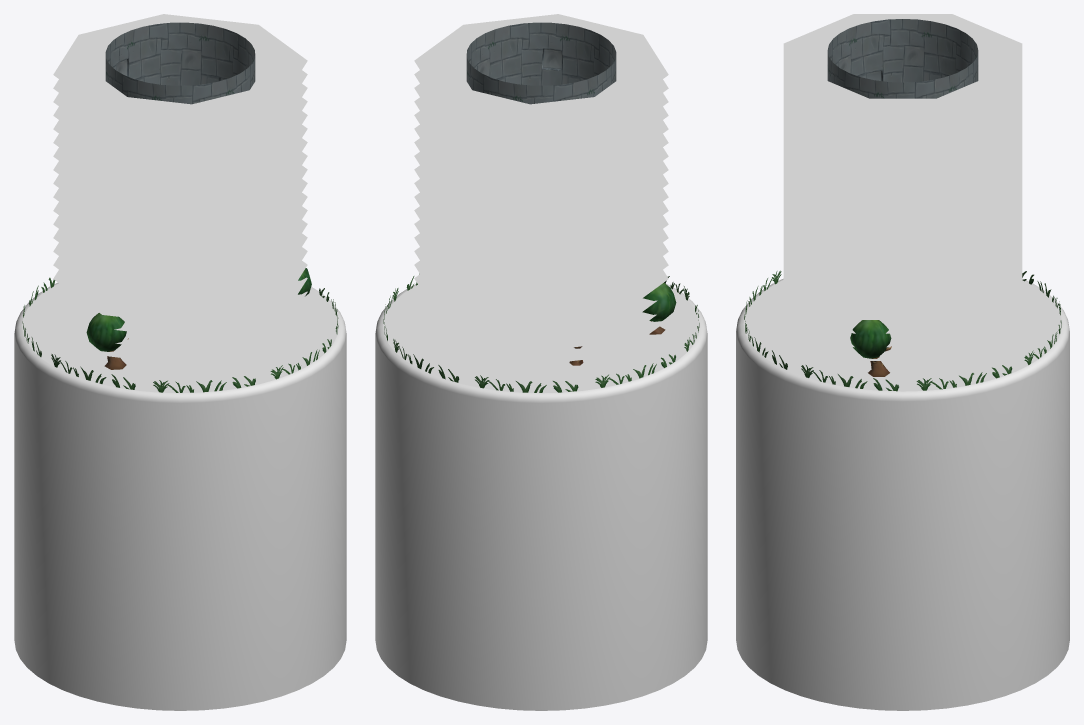
File: Tower.fbx
3 views of the same model, side by side, from view 1: azimuth 30°, elevation 25°; view 2: azimuth 150°, elevation 25°; view 3: azimuth 270°, elevation 25° (orthographic).
Parts seen in each view (by area): view 1: Ground, TowerWindParticlesArea, TowerSegment; view 2: Ground, TowerWindParticlesArea, TowerSegment; view 3: Ground, TowerWindParticlesArea, TowerSegment.
Boxes of the visible parts, bbox=[...] form: Ground: bbox=[14, 268, 346, 710]; TowerWindParticlesArea: bbox=[53, 14, 307, 379]; TowerSegment: bbox=[105, 22, 255, 104]; Ground: bbox=[375, 273, 707, 710]; TowerWindParticlesArea: bbox=[414, 14, 668, 379]; TowerSegment: bbox=[466, 22, 616, 104]; Ground: bbox=[736, 270, 1069, 710]; TowerWindParticlesArea: bbox=[783, 14, 1022, 360]; TowerSegment: bbox=[827, 19, 978, 98].
Bounding box in the file's own units: 221 × 431 × 221.
